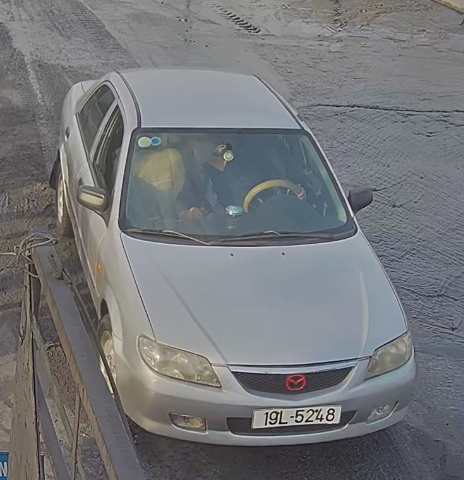vehicle plate: (243, 399, 346, 432)
